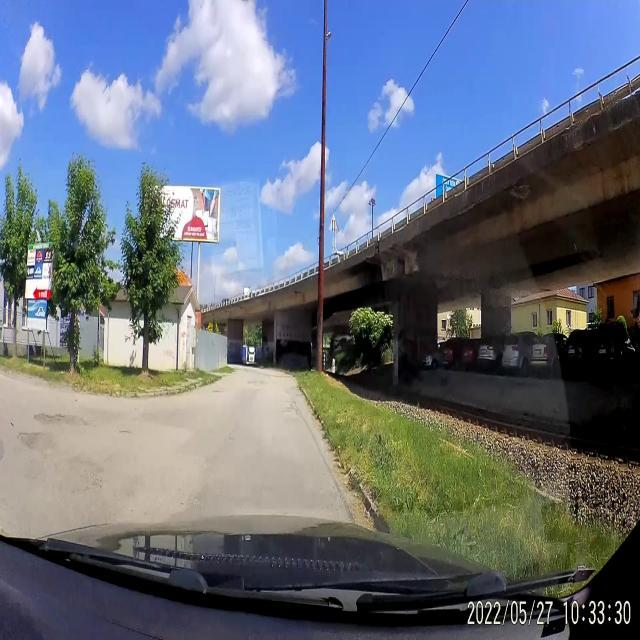Pothole: (33, 408, 90, 431), (16, 430, 56, 452), (282, 407, 300, 418), (118, 426, 132, 440), (228, 436, 235, 444), (210, 389, 223, 393)
